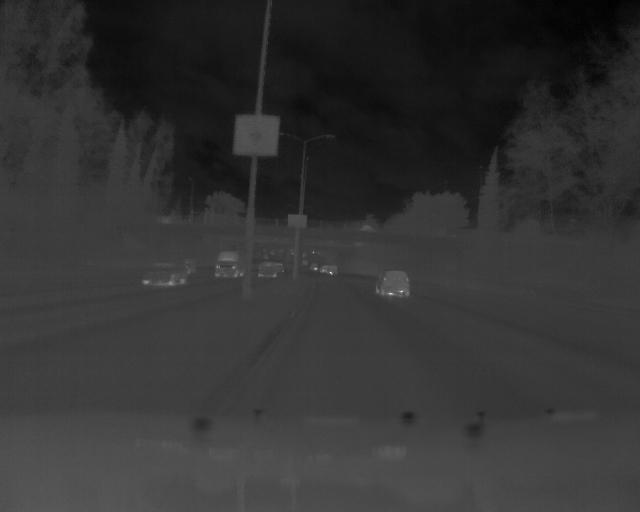car: (141, 253, 193, 290), (372, 267, 416, 298), (214, 248, 246, 280), (253, 260, 279, 280)
